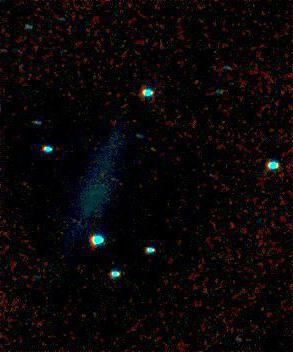star: (178, 66, 208, 96)
